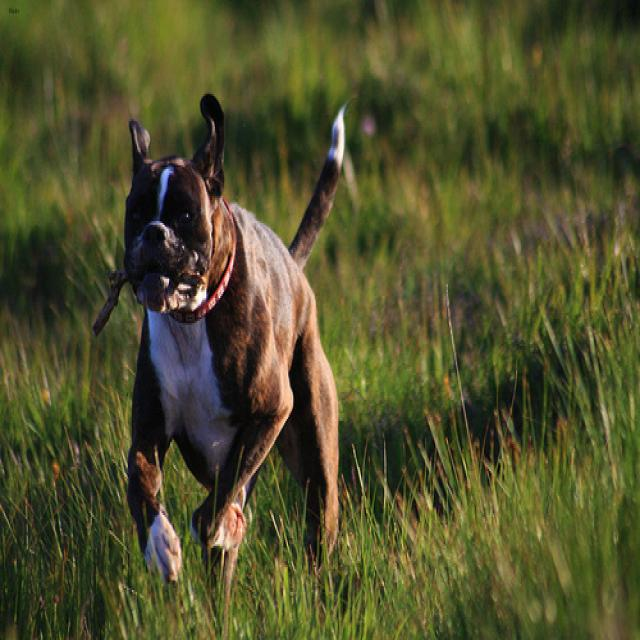dog-boxer: (114, 71, 353, 600)
